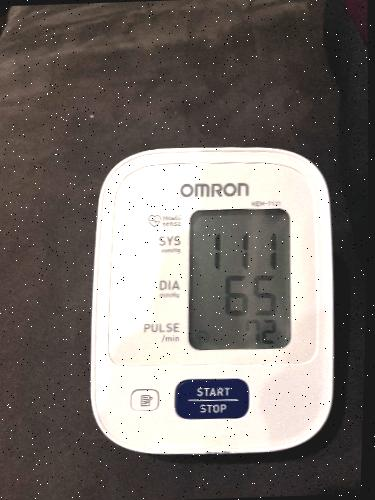bpm: (184, 207, 292, 351)
